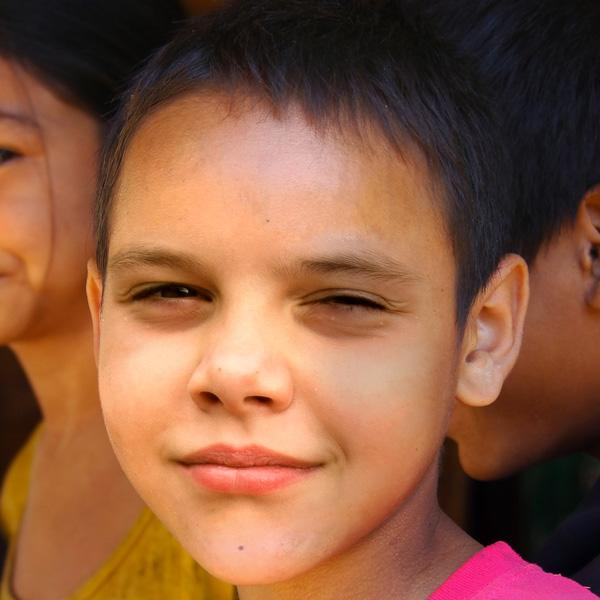Eyes: (286, 276, 398, 332), (120, 268, 220, 324), (0, 135, 31, 178)
